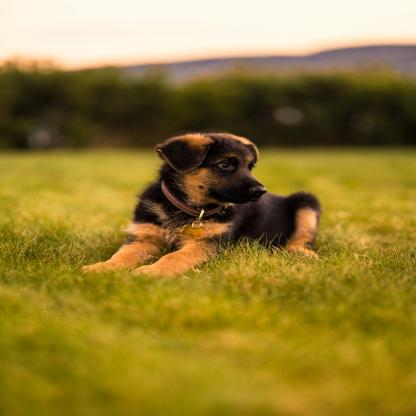german shepherd: (85, 132, 326, 274)
